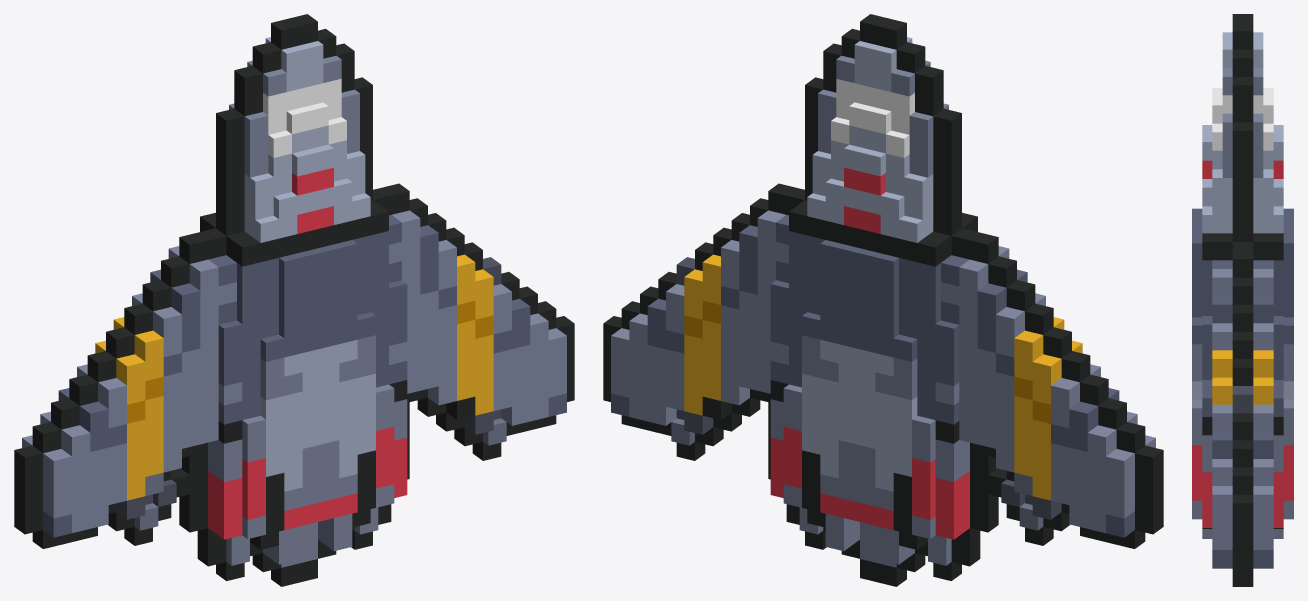
Rendered from ship-0.glb.
3 views of the same model, side by side, from view 1: azimuth 30°, elevation 25°; view 2: azimuth 150°, elevation 25°; view 3: azimuth 270°, elevation 25° (orthographic). The views are drawn at different scales.
Visible parts, largest first — view 1: generated(Clone); view 2: generated(Clone); view 3: generated(Clone).
Boxes of the visible parts, x1,y1,x2,y2 form: generated(Clone): [14, 14, 574, 586]; generated(Clone): [603, 14, 1163, 586]; generated(Clone): [1192, 14, 1293, 586].
Size of the model in its own units: 30 by 29 by 5.
